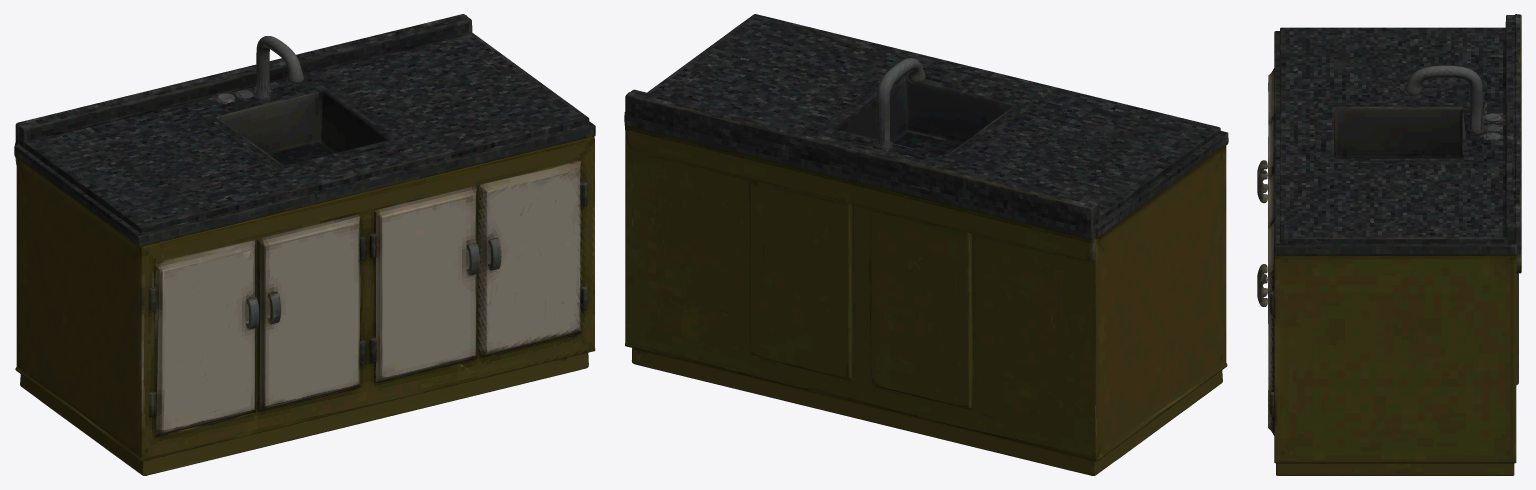
The model's file is sink_cabinet_psx.glb.
3 renders of one model, left to right at view 1: azimuth 30°, elevation 25°; view 2: azimuth 150°, elevation 25°; view 3: azimuth 270°, elevation 25°, orthographic. The views are drawn at different scales.
Parts seen in each view (by area): view 1: node_0; view 2: node_0; view 3: node_0.
Part boxes in pixels (left/top/right/bottom): node_0: left=14, top=14, right=595, bottom=475; node_0: left=624, top=14, right=1228, bottom=475; node_0: left=1257, top=14, right=1521, bottom=475.
Bounding box in the file's own units: 0.9406 × 0.6247 × 0.4888.
1 material, 1 textured.
